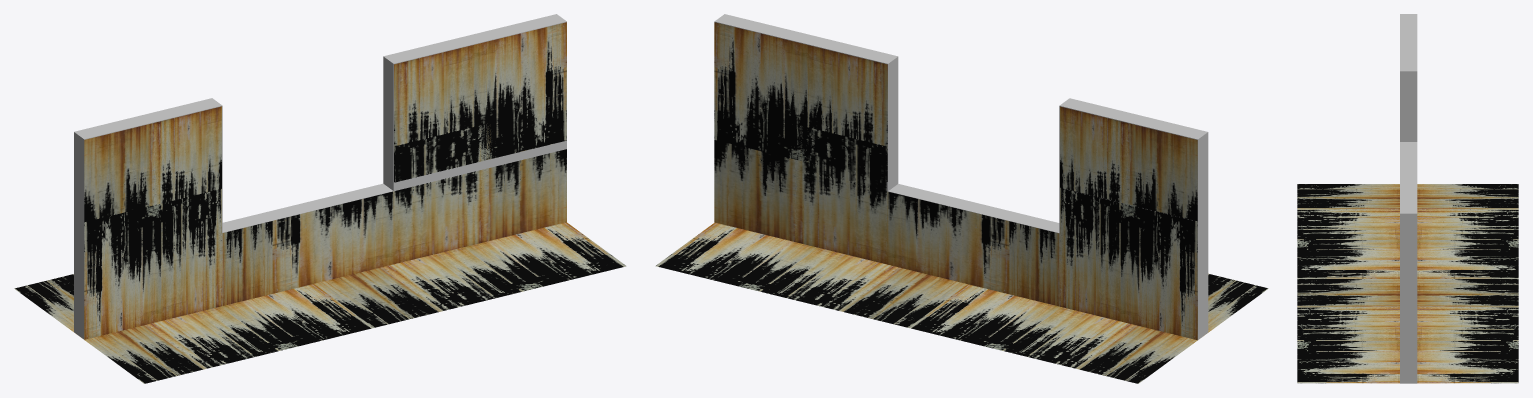
Rendered from TiledBrick2.FBX.
3 renders of one model, left to right at view 1: azimuth 30°, elevation 25°; view 2: azimuth 150°, elevation 25°; view 3: azimuth 270°, elevation 25°, orthographic. The views are drawn at different scales.
Parts seen in each view (by area): view 1: TiledBrick2; view 2: TiledBrick2; view 3: TiledBrick2.
Boxes of the visible parts, box(x1,y1,x2,y2) form: TiledBrick2: box(14, 14, 626, 383); TiledBrick2: box(655, 14, 1268, 383); TiledBrick2: box(1297, 14, 1518, 383).
Bounding box in the file's own units: 562 × 223 × 263.
